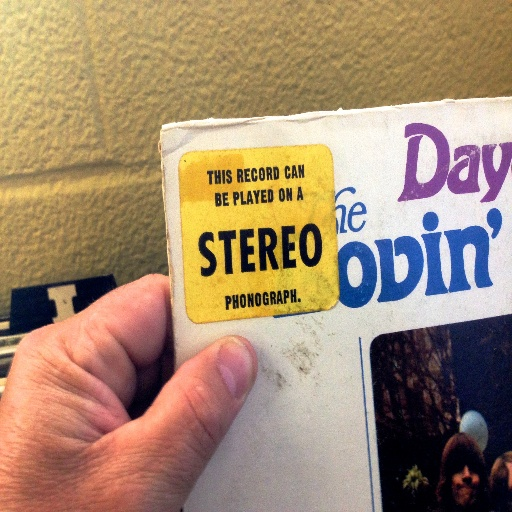hand: (0, 267, 266, 494)
